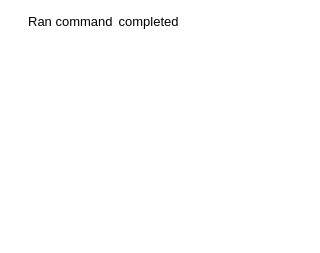
Messages › keeps long-running command output collapsed by default and supports re-collapse
The image size is (320, 253).
Click the button with aria-label "切换工具详情": click(97, 22) [16,12,178,32]
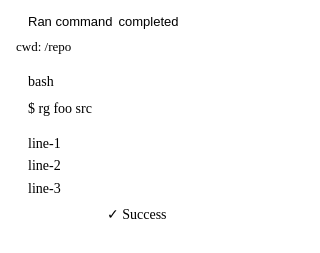
Now the element with class "tool-inline-terminal" is shown, box [16,61,178,237]
Click the button with aria-label "切换工具详情": click(97, 22) [16,12,178,32]
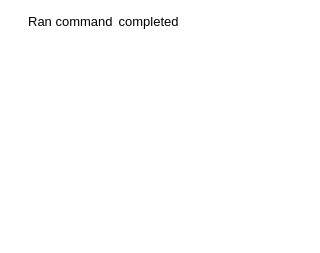
Now the element with class "tool-inline-terminal" is gone
Now the text "切换工具详情" no longer shows "line-1"
